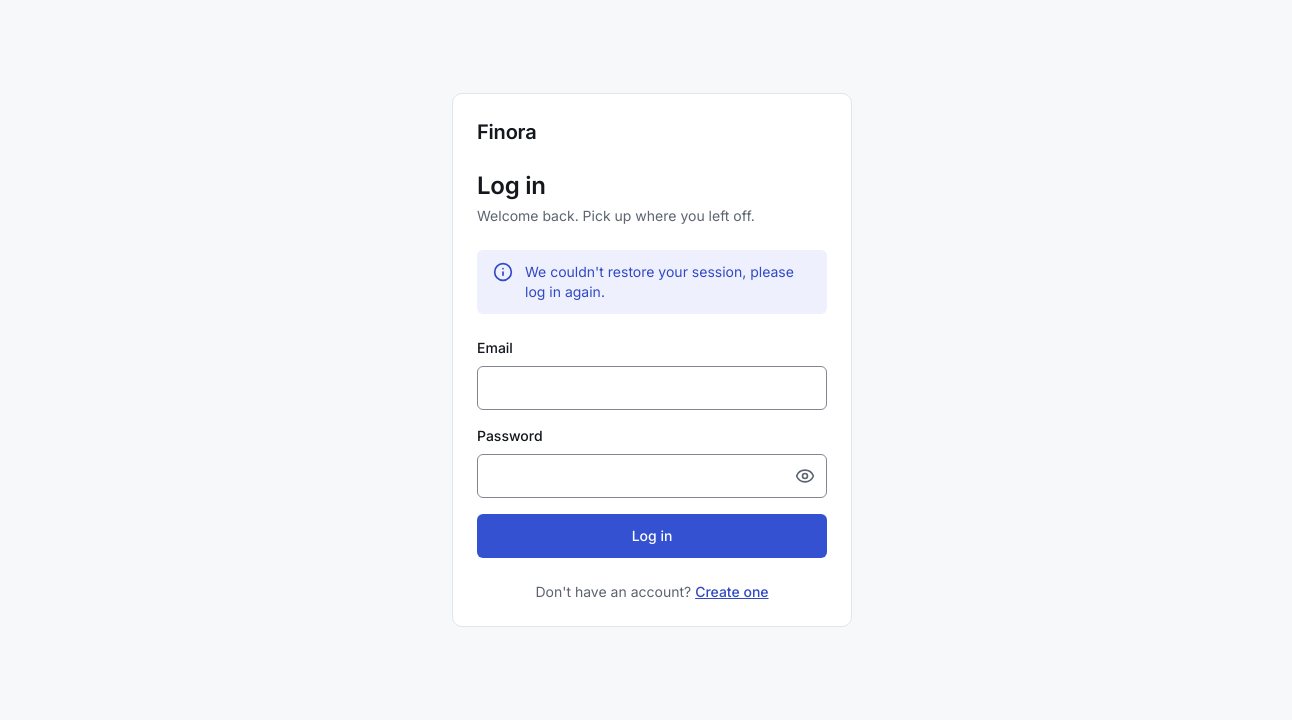
a saved session that cannot be restored › lets the user log in again straight away, and drops the message
Expected: the text "We couldn't restore your session, please log in again." is shown, [525,262,811,302]
Expected: the heading "Log in" is shown, [477,171,546,200]
Type "me@example.com" into the field labelled "Email". click: (652, 388)
box: [477,366,827,410]
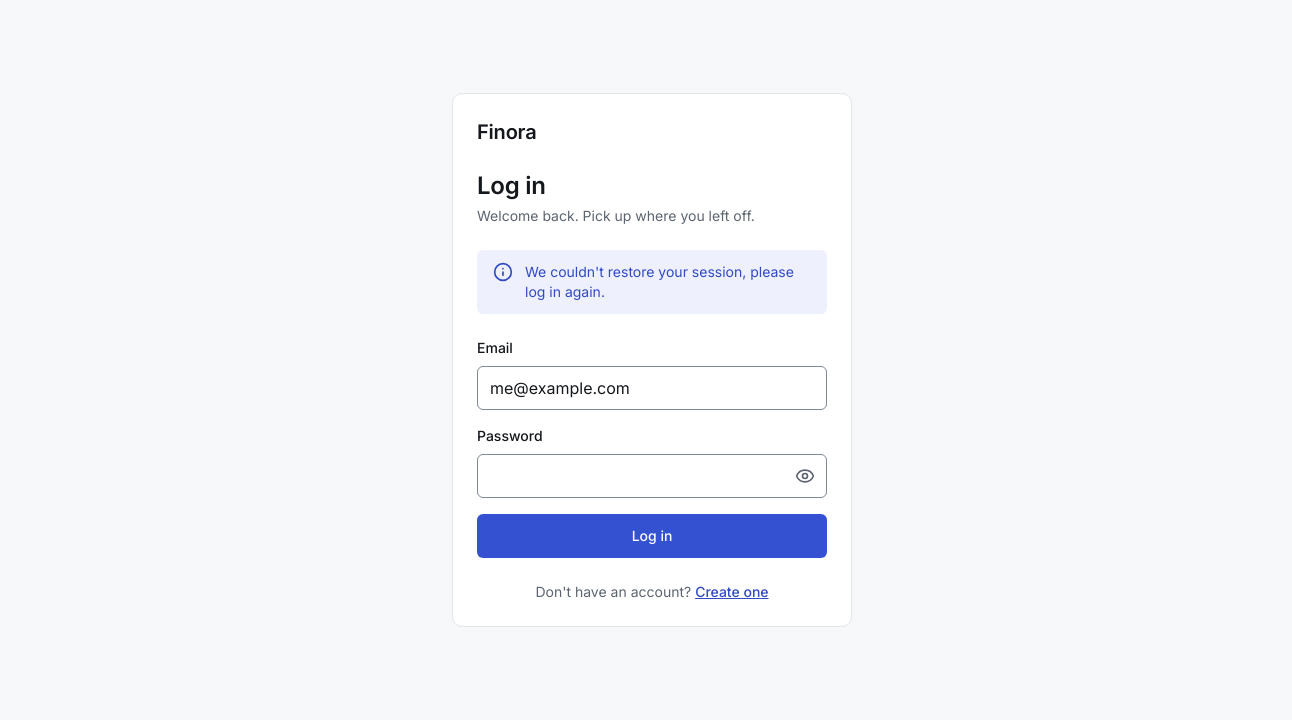
Type "password123" into the password field labelled "Password". click: (652, 476)
box: [477,454,827,498]
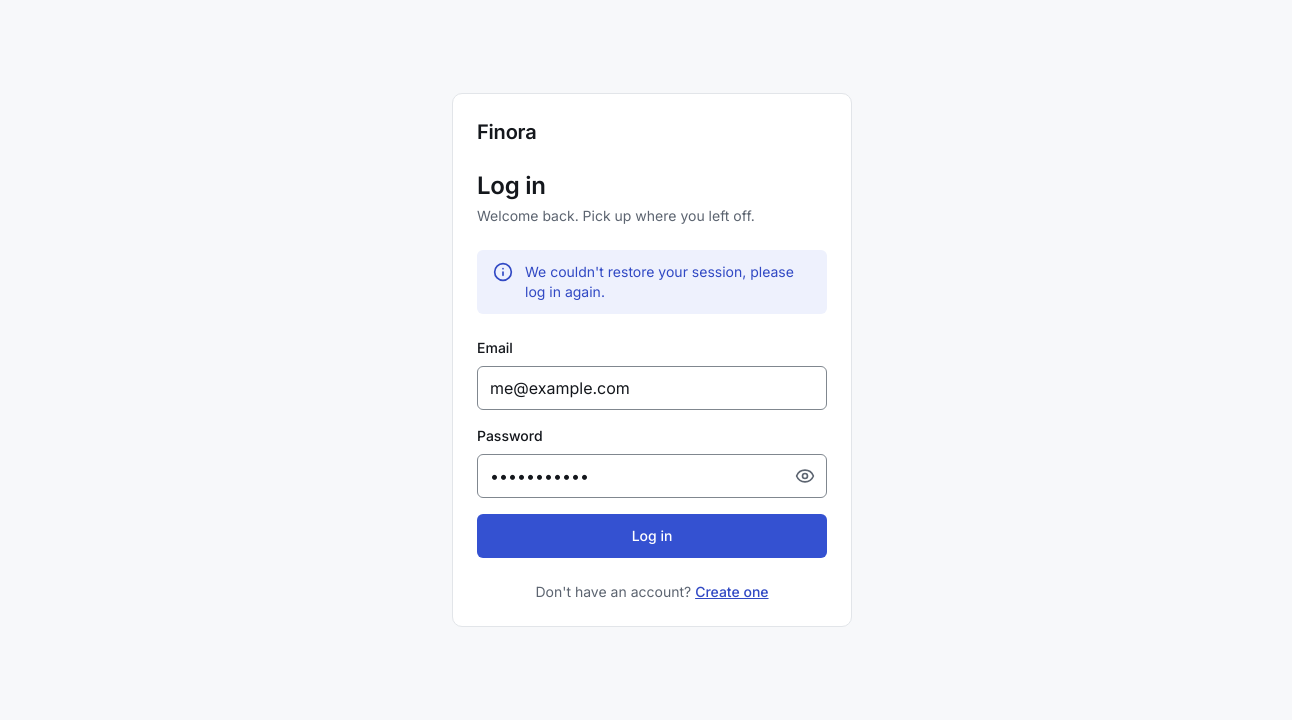
Click the button "Log in". click: (652, 536)
box: [477,514,827,558]
(page scrolled)
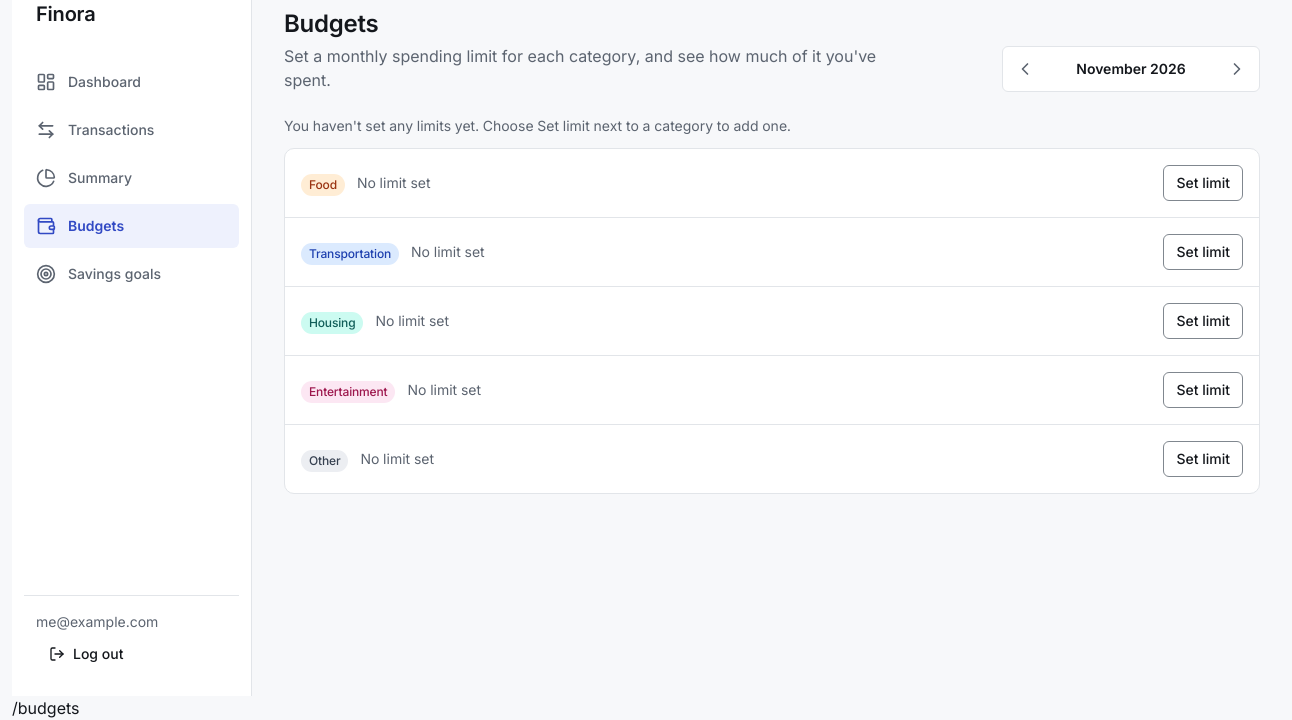
Expected: the heading "Budgets" is shown, [284,9,378,38]
Expected: the text with test id "current-path" reads "/budgets", [12,698,80,718]
Expected: the text "We couldn't restore your session, please log in again." is gone
